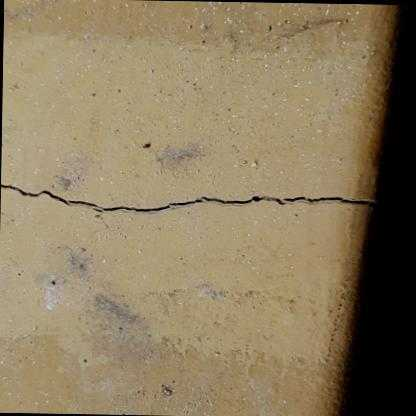crack: (0, 183, 414, 212)
